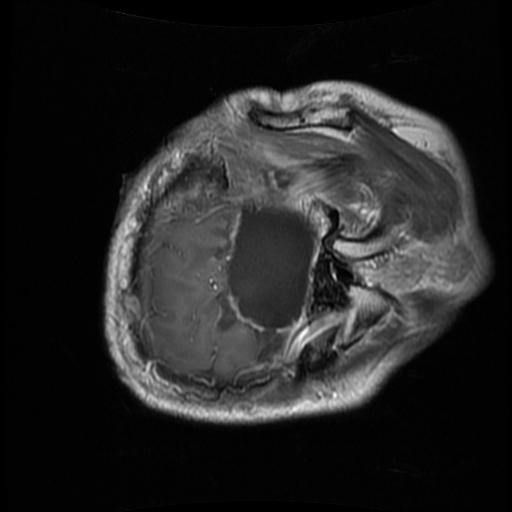glioma: (223, 200, 318, 337)
